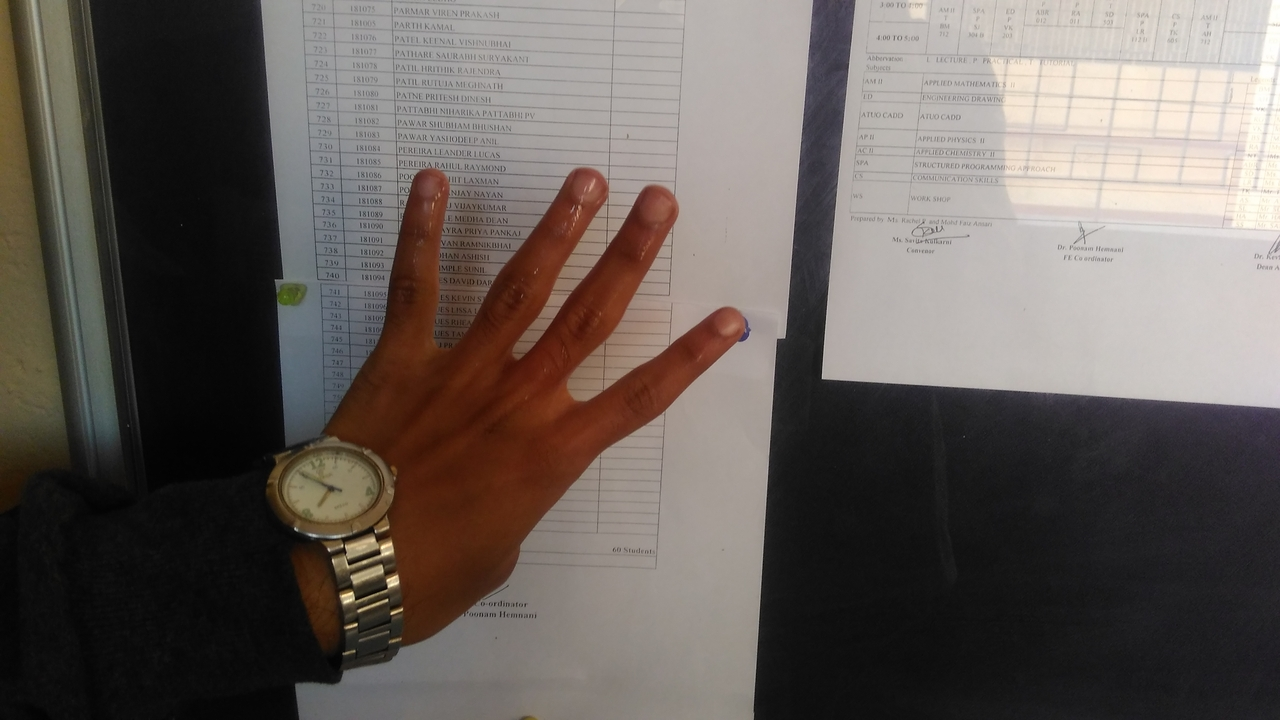fingertip: (552, 158, 618, 212), (620, 176, 686, 228), (692, 296, 756, 348), (398, 162, 452, 210)
